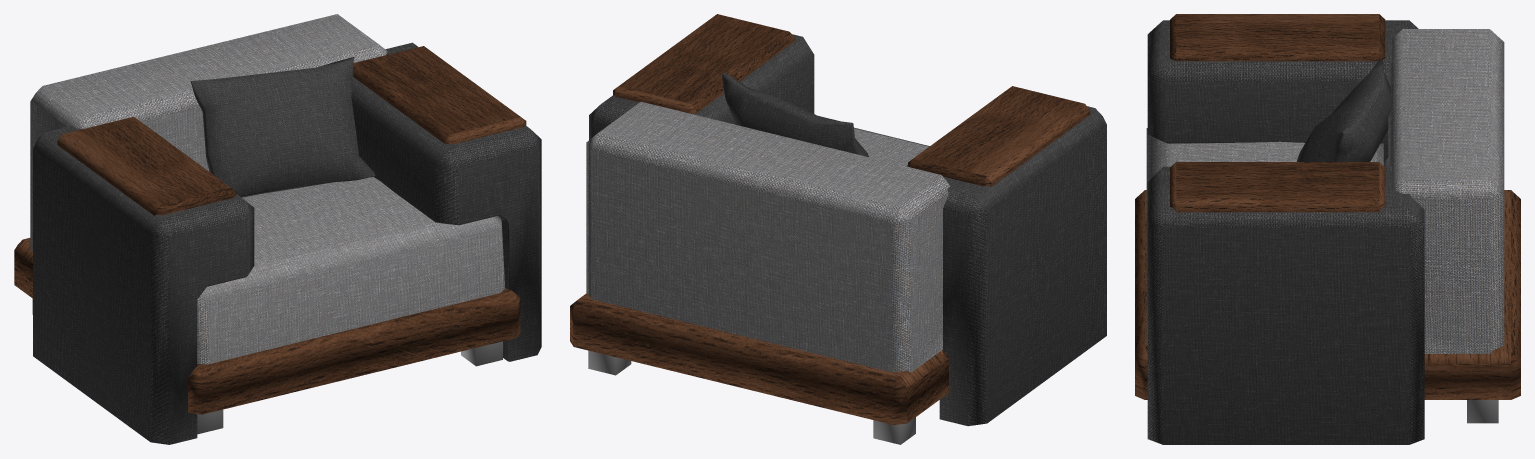
The model's file is chair_059.fbx.
3 views of the same model, side by side, from view 1: azimuth 30°, elevation 25°; view 2: azimuth 150°, elevation 25°; view 3: azimuth 270°, elevation 25° (orthographic). The views are drawn at different scales.
Visible parts, largest first — view 1: chair_059; view 2: chair_059; view 3: chair_059.
Part boxes in pixels (<box>): chair_059: <box>14,14,541,444</box>; chair_059: <box>570,14,1106,444</box>; chair_059: <box>1135,14,1520,444</box>.
Bounding box in the file's own units: 158 × 129 × 97.1.
